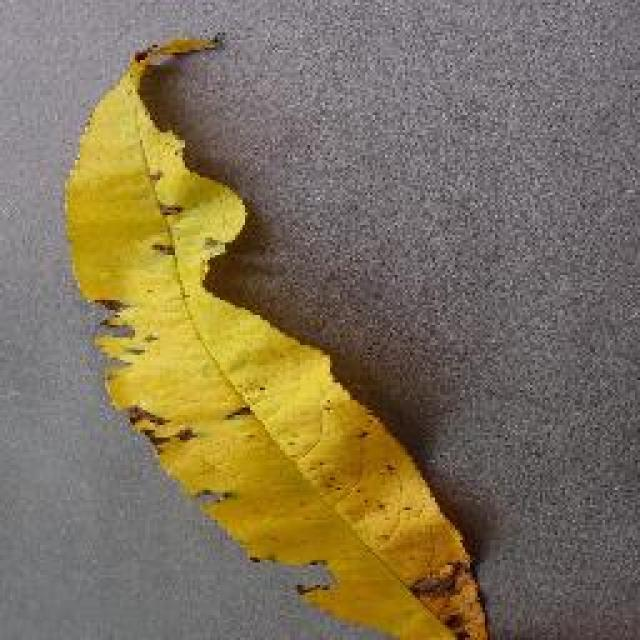Peach_Bacterial_Spot: (107, 145, 455, 640)
